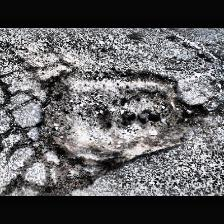pothole: (34, 69, 206, 171)
